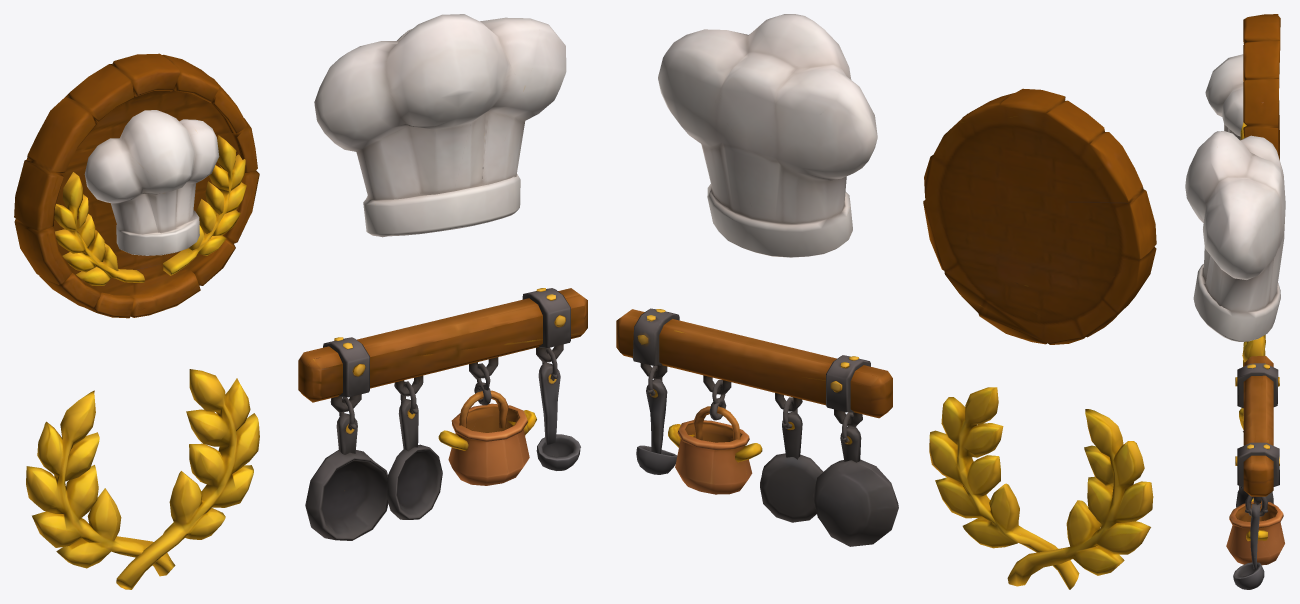
The model's file is sheet_source.glb.
The picture shows the model from 3 angles, left to right: view 1: azimuth 30°, elevation 25°; view 2: azimuth 150°, elevation 25°; view 3: azimuth 270°, elevation 25°; orthographic projection. The views are drawn at different scales.
Visible parts, largest first — view 1: geometry_0; view 2: geometry_0; view 3: geometry_0.
Boxes of the visible parts, bbox=[...] form: geometry_0: bbox=[14, 14, 587, 589]; geometry_0: bbox=[616, 14, 1156, 589]; geometry_0: bbox=[1185, 14, 1285, 589].
Bounding box in the file's own units: 0.957 × 0.8569 × 0.1846.
Materials: 1 (1 with a texture image).
